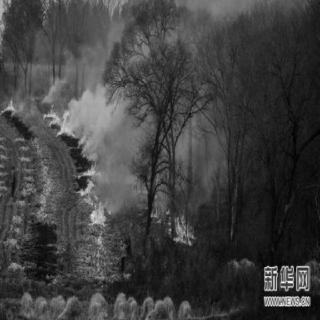Fire: (151, 188, 195, 244), (43, 102, 71, 140), (3, 96, 16, 118)
